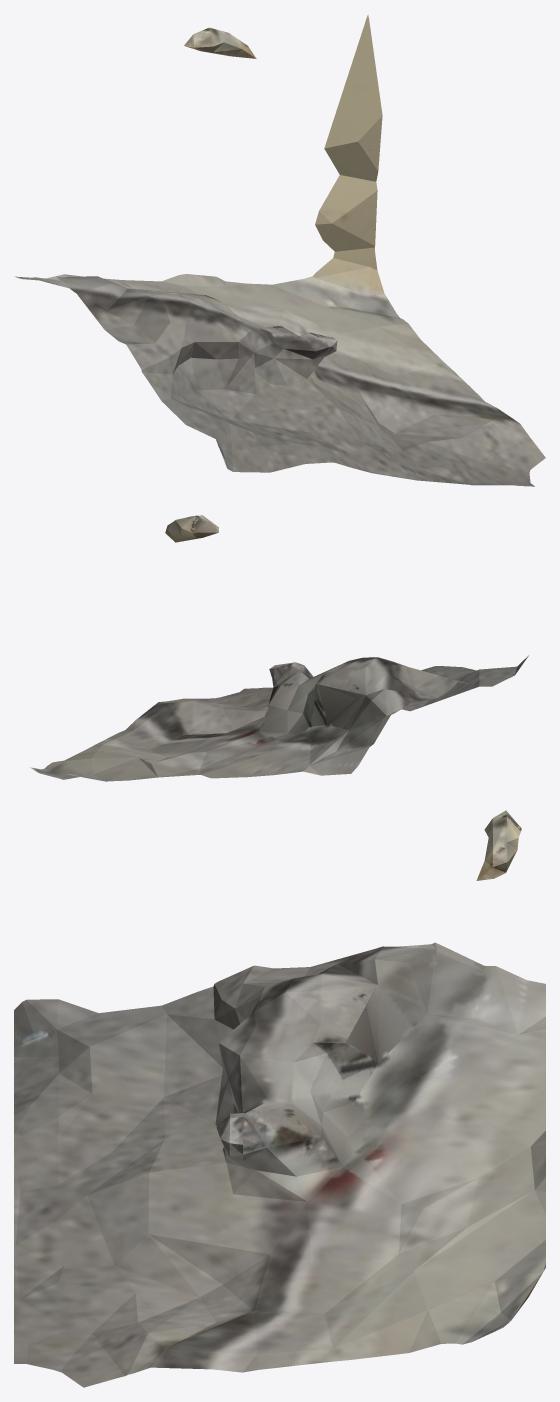
3 views of the same model, one above another, from view 1: azimuth 30°, elevation 25°; view 2: azimuth 150°, elevation 25°; view 3: azimuth 270°, elevation 25° (orthographic). The views are drawn at different scales.
Bounding box in the file's own units: 1.67 × 1.6 × 1.67.
3 materials, 3 textured.
